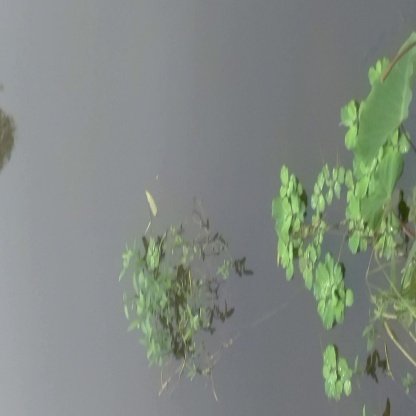grass: (121, 218, 257, 371)
